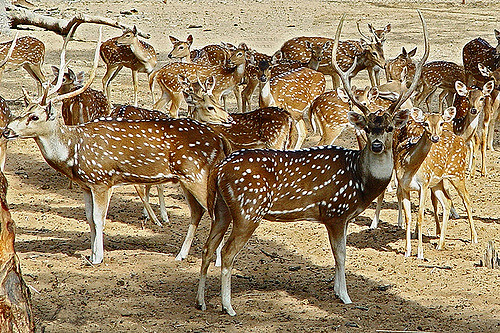Deer: (181, 10, 428, 324), (4, 25, 226, 271), (181, 91, 301, 227), (394, 78, 494, 217), (400, 117, 483, 260), (249, 54, 328, 151), (154, 45, 251, 114), (279, 42, 390, 94), (254, 38, 327, 116), (96, 26, 158, 107), (168, 35, 226, 111), (329, 28, 390, 86), (458, 31, 500, 111), (1, 37, 42, 97)
